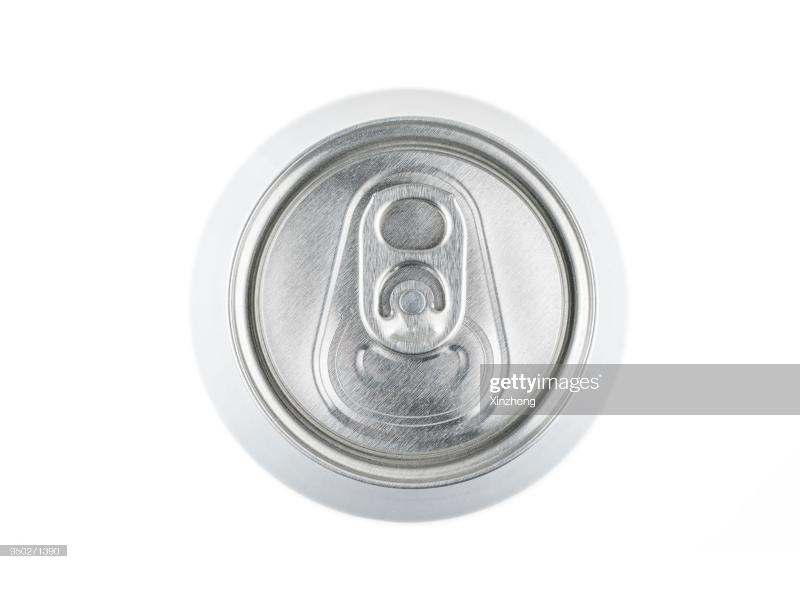can: (185, 80, 639, 528)
